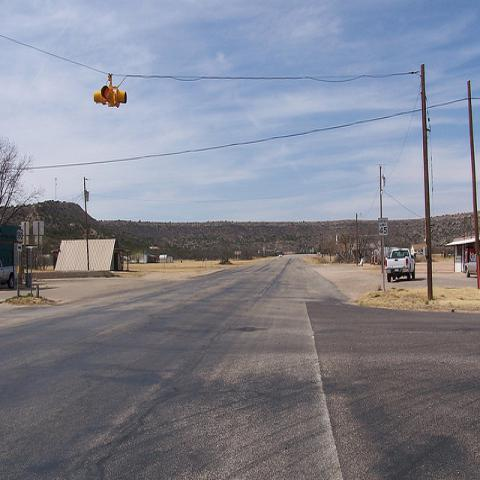car: (0, 256, 15, 289), (464, 259, 477, 278), (278, 253, 284, 259)
truck: (385, 246, 416, 282), (0, 261, 14, 289)
